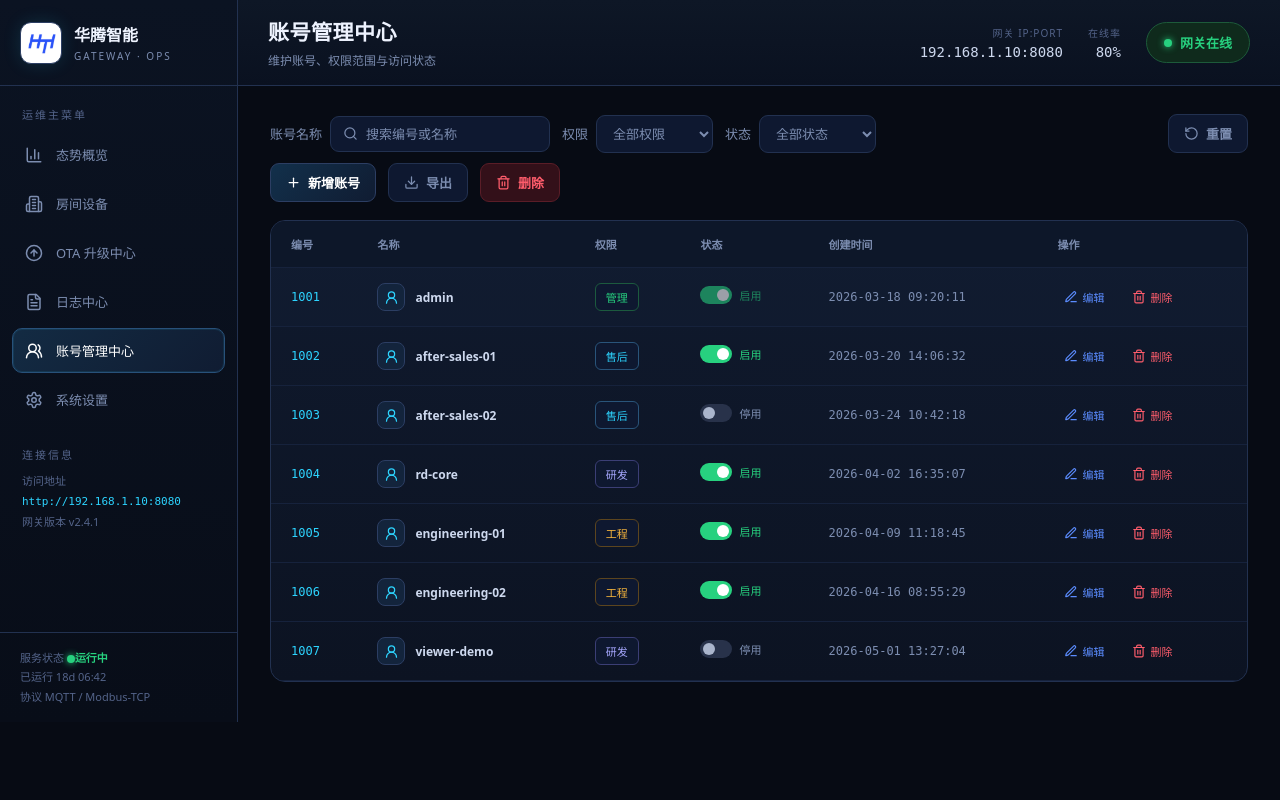
Test: 账号管理中心 › 新增和编辑表单都能看到密码但不提供酒店编码选项，当前账号状态不可修改
Check: the row "1001 admin 管理 启用 2026-03-18 09:20:11 编辑 删除" is shown, box [271,268,1247,326]
Check: the button with class "status-switch" in the row of "1001" is disabled, box [700,286,761,304]
Click the button "编辑" in the row of "1001" at {"x": 1084, "y": 297}, box [1058,288,1110,306]
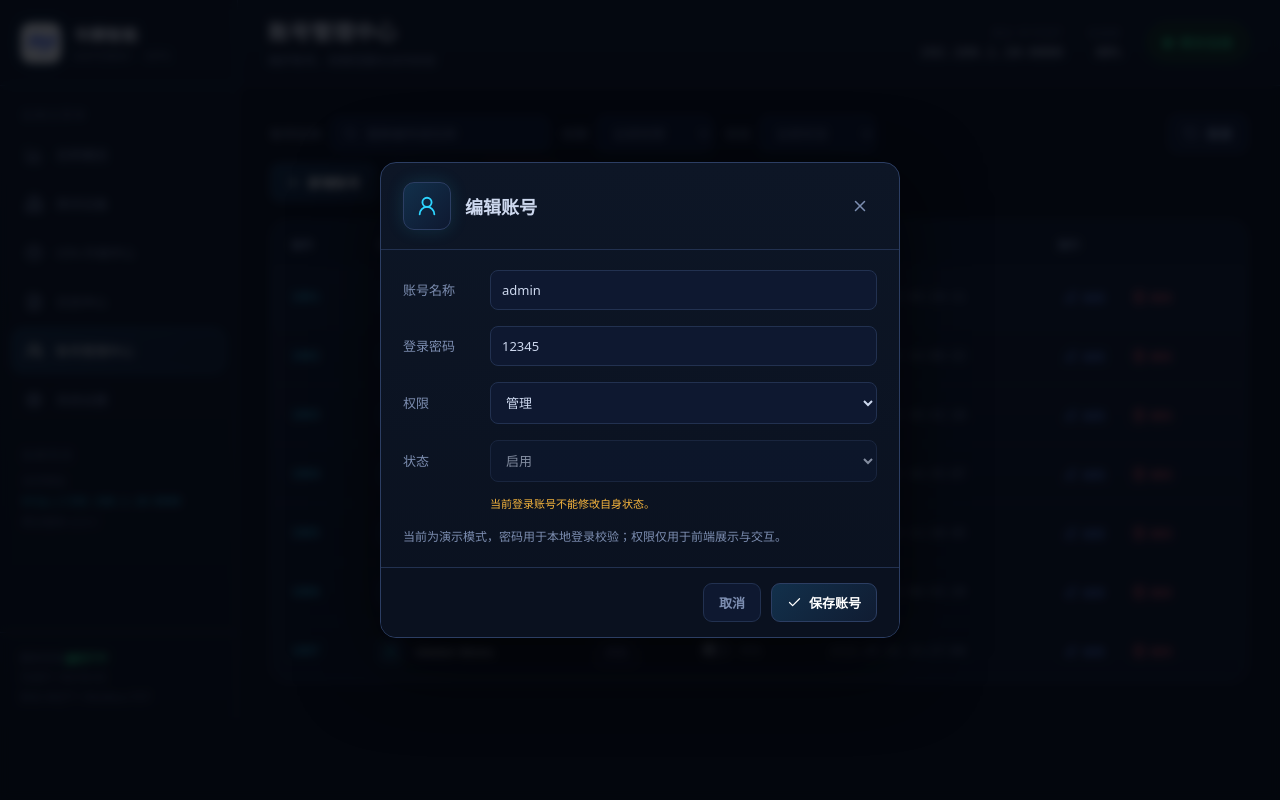
Check: the field named "password" holds "12345", box [490,326,877,366]
Click the button with class "ghost-button" showing "取消" at {"x": 732, "y": 603}, box [703,583,761,622]
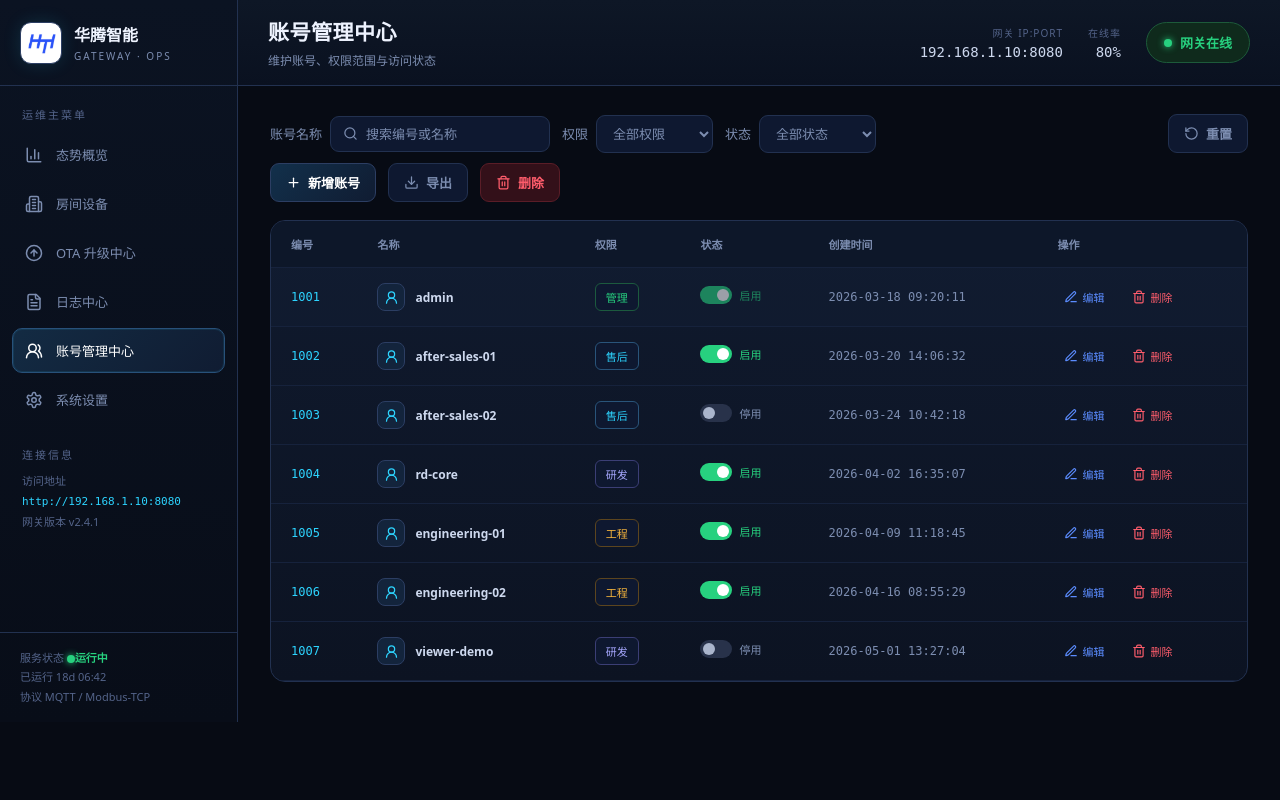
Click the button "新增账号" at {"x": 323, "y": 182}, box [270,163,376,202]
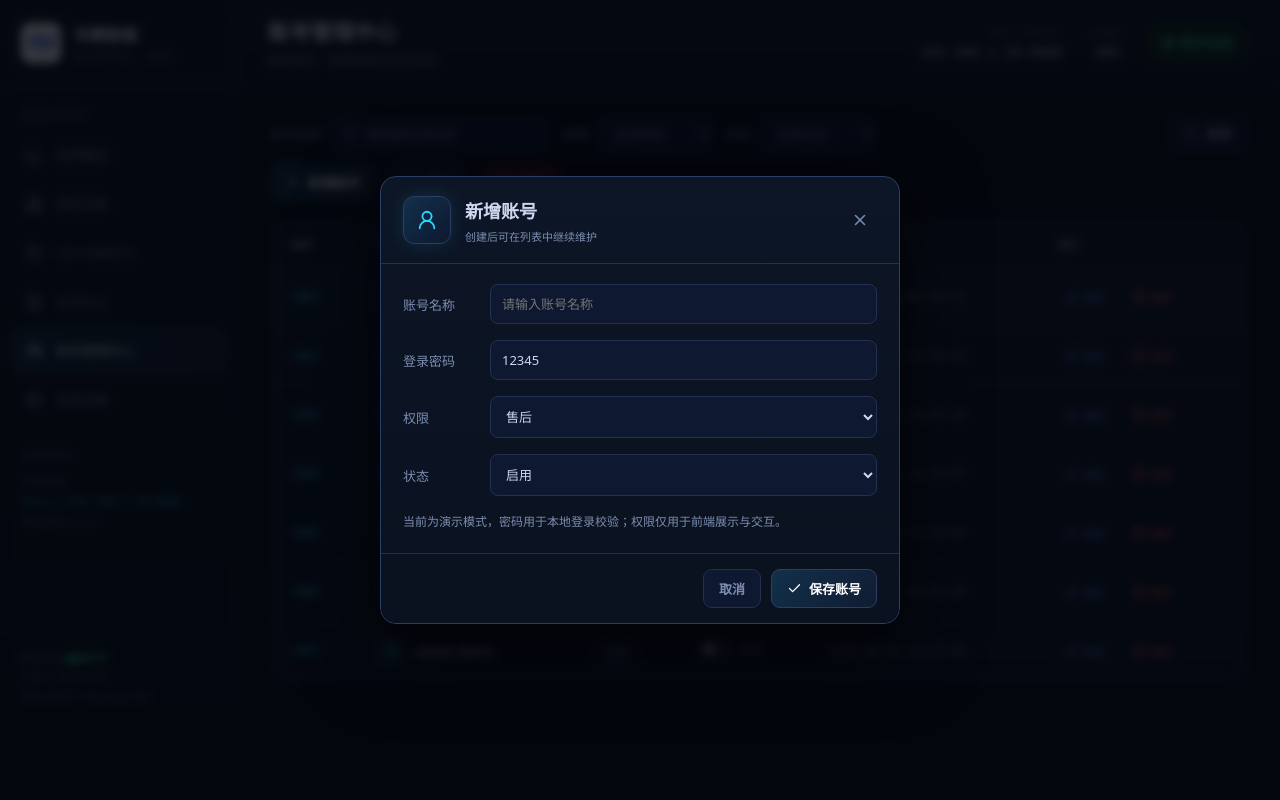
Check: the field named "password" holds "12345", box [490,340,877,380]
